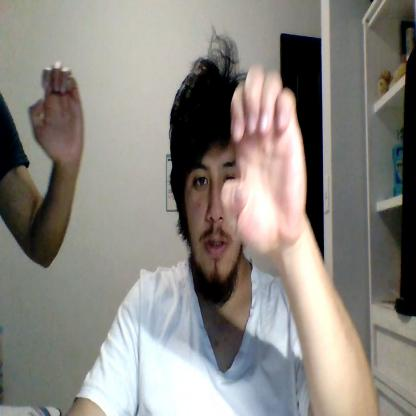E: (221, 63, 307, 254), (28, 62, 84, 165)
